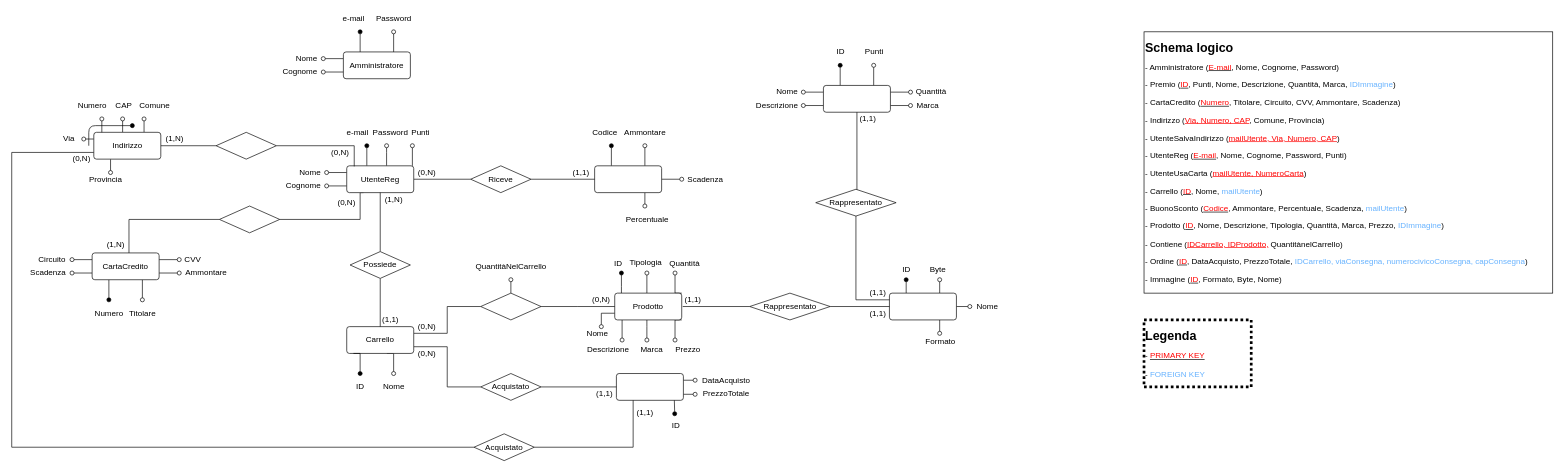
This 1564x472 diagram has some shape labels left out. Each missing label, with the box of its shape:
BuonoSconto: (594, 165, 662, 193)
Contiene: (480, 292, 541, 320)
Immagine: (889, 292, 956, 320)
Ordine: (616, 373, 683, 400)
Premio: (823, 85, 890, 112)
Salva: (215, 132, 276, 159)
Usa: (219, 205, 280, 233)
